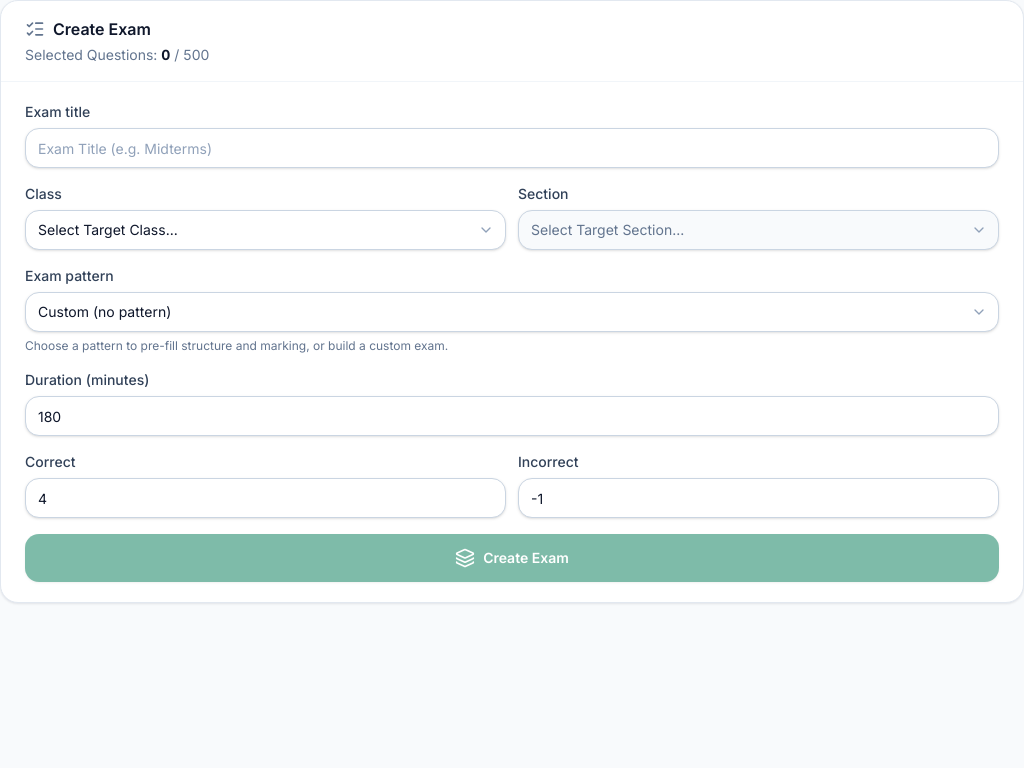
CreateExamCard › fills the section from the chosen class and disables section until a class is chosen
Expected: the dropdown named "Target section for new exam" is disabled, top-left (518, 210), bottom-right (999, 250)
Select "12" in the dropdown named "Target class for new exam" at (266, 230), box top-left (25, 210), bottom-right (506, 250)
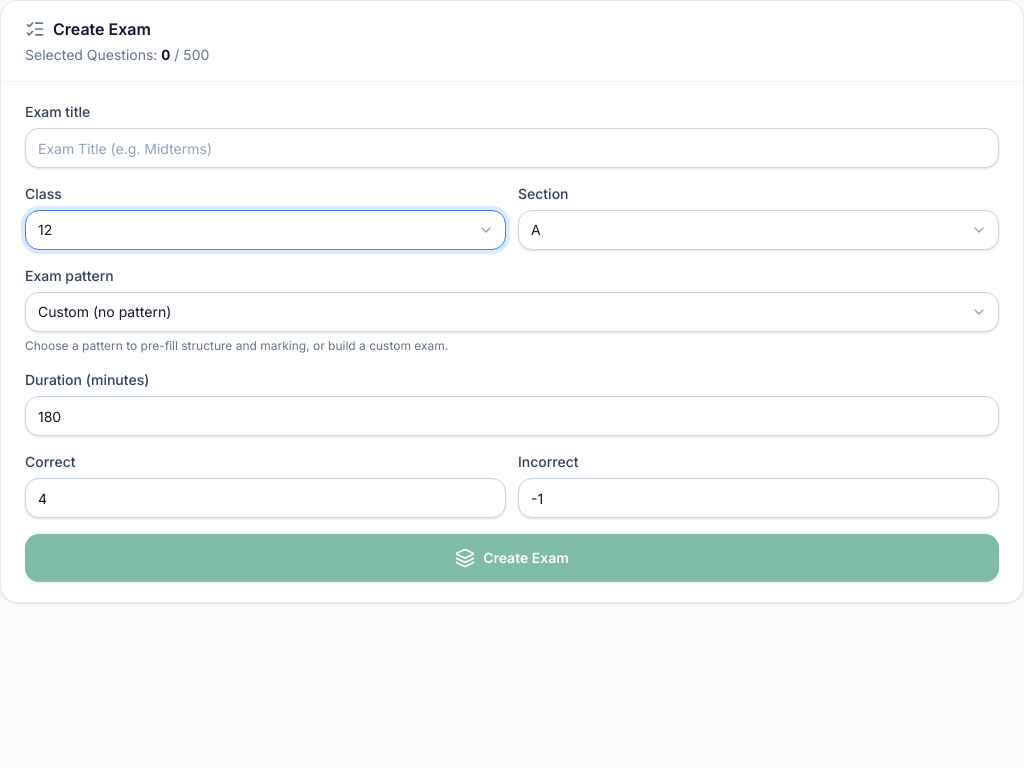
Now the dropdown named "Target section for new exam" is enabled, box top-left (518, 210), bottom-right (999, 250)
Now the dropdown named "Target section for new exam" shows "A", box top-left (518, 210), bottom-right (999, 250)
Select "11" in the dropdown named "Target class for new exam" at (266, 230), box top-left (25, 210), bottom-right (506, 250)
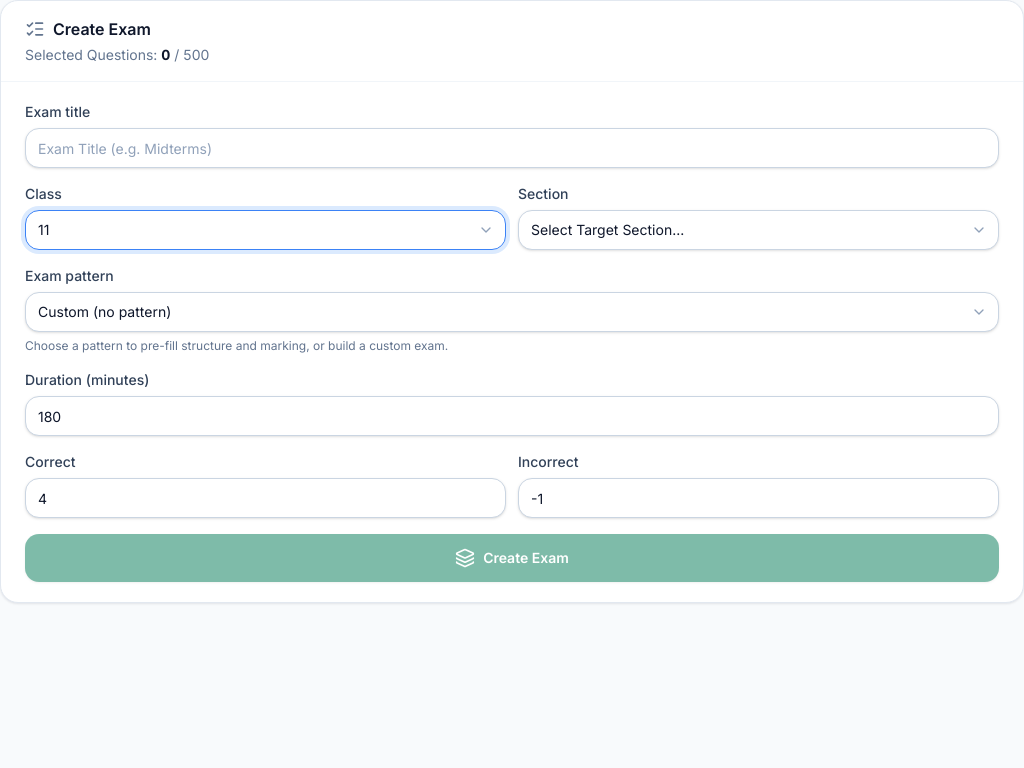
Now the dropdown named "Target section for new exam" shows "Select Target Section...", box top-left (518, 210), bottom-right (999, 250)
